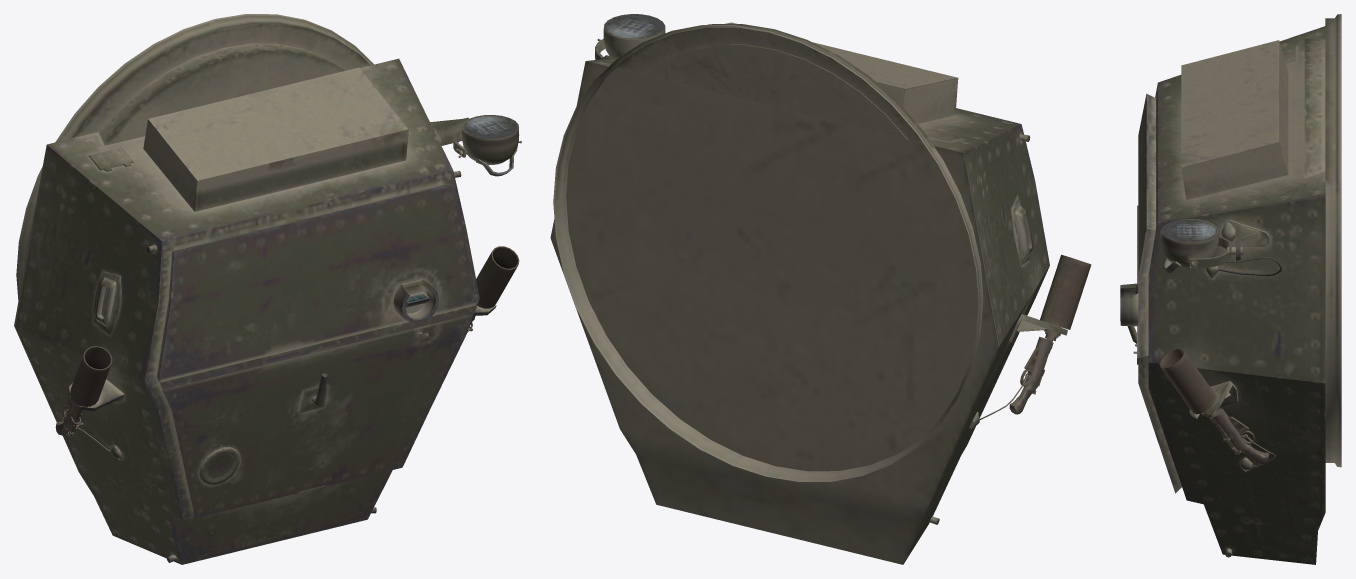
Rendered from Turret_01.glb.
The picture shows the model from 3 angles, left to right: view 1: azimuth 30°, elevation 25°; view 2: azimuth 150°, elevation 25°; view 3: azimuth 270°, elevation 25°; orthographic projection. The views are drawn at different scales.
Visible parts, largest first — view 1: set_0_group_0; view 2: set_0_group_0; view 3: set_0_group_0.
Boxes of the visible parts, x1,y1,x2,y2 form: set_0_group_0: (14,14,521,564); set_0_group_0: (550,14,1091,564); set_0_group_0: (1120,14,1341,564).
Size of the model in its own units: 1.62 by 1.66 by 0.7028.
Materials: 1 (1 with a texture image).
